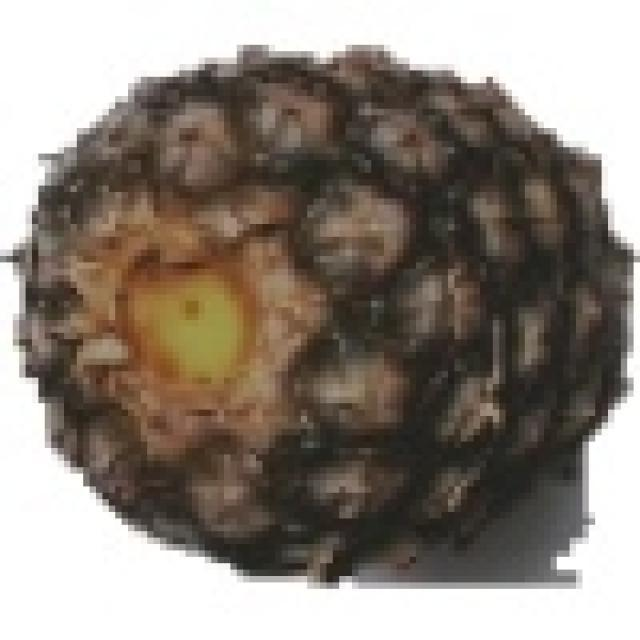pineapple: (13, 38, 621, 570)
